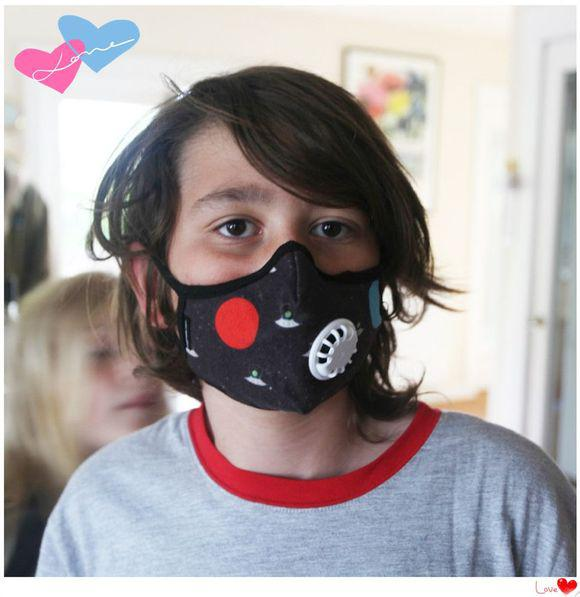NONE: (74, 334, 167, 444)
OK: (169, 149, 420, 400)
